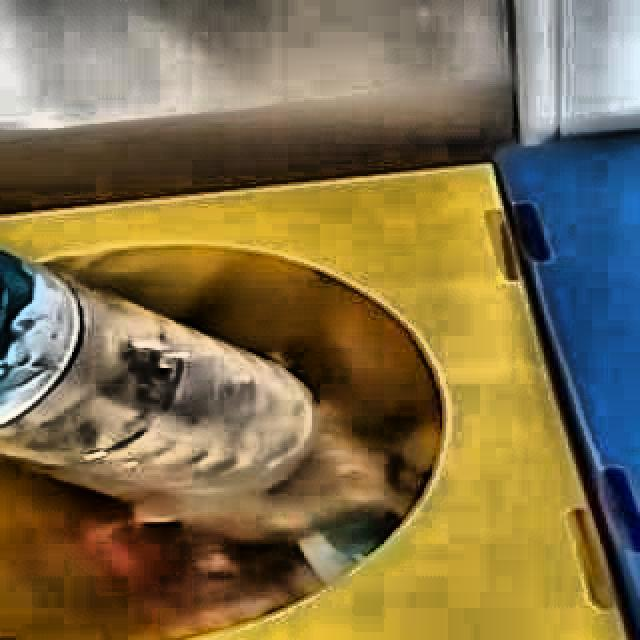plastic: (0, 284, 312, 509)
